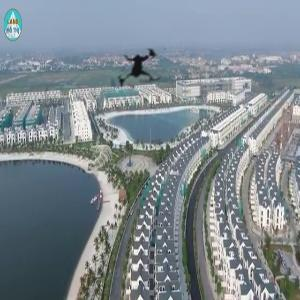drone: (92, 23, 188, 119)
